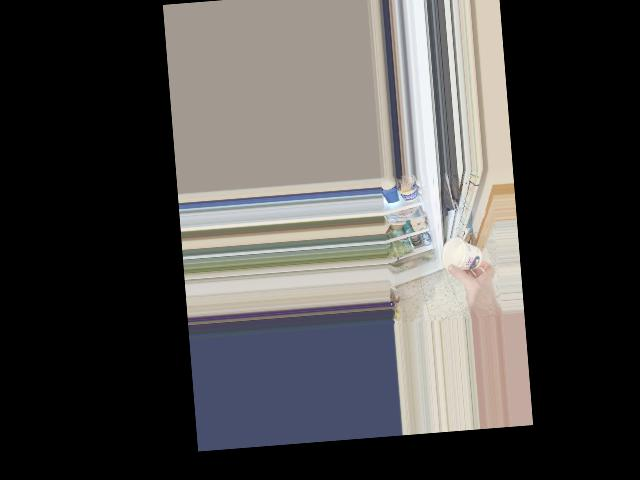cotage: (447, 238, 481, 271)
